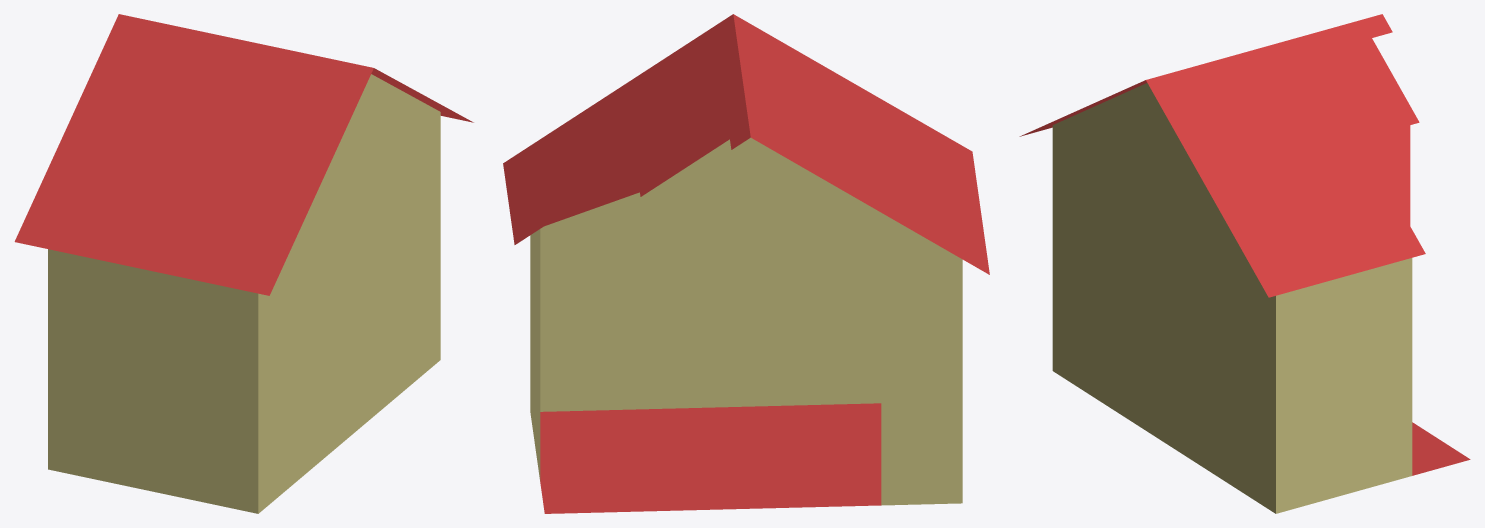
3 renders of one model, left to right at view 1: azimuth 30°, elevation 25°; view 2: azimuth 150°, elevation 25°; view 3: azimuth 270°, elevation 25°, orthographic. The views are drawn at different scales.
Bounding box in the file's own units: 21.46 × 18.12 × 16.33.
